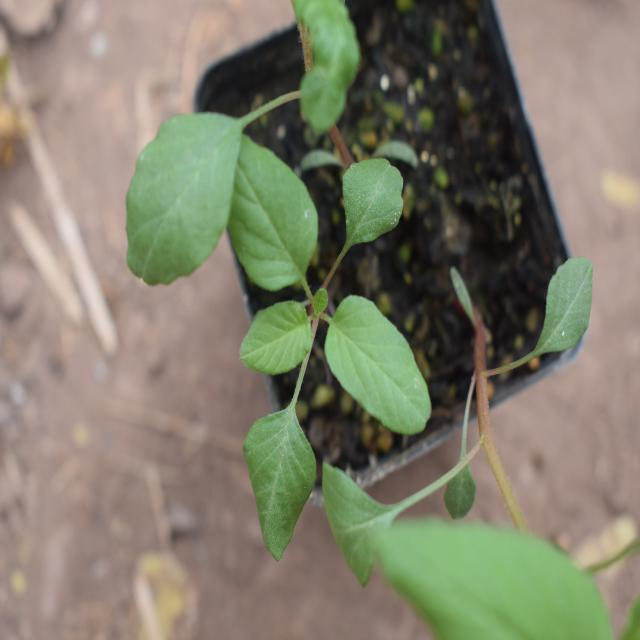pigweed: (124, 108, 420, 532)
